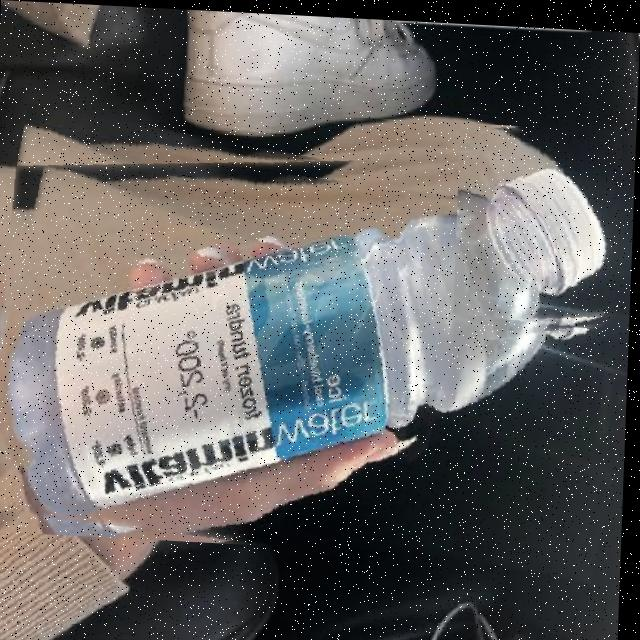plasticbottle: (0, 122, 636, 557)
plasticbottlecap: (454, 118, 637, 326)
